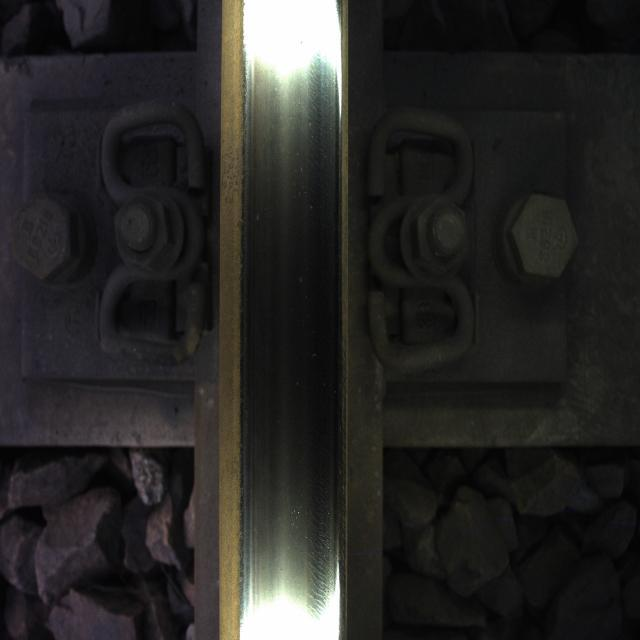break: (248, 60, 340, 572)
